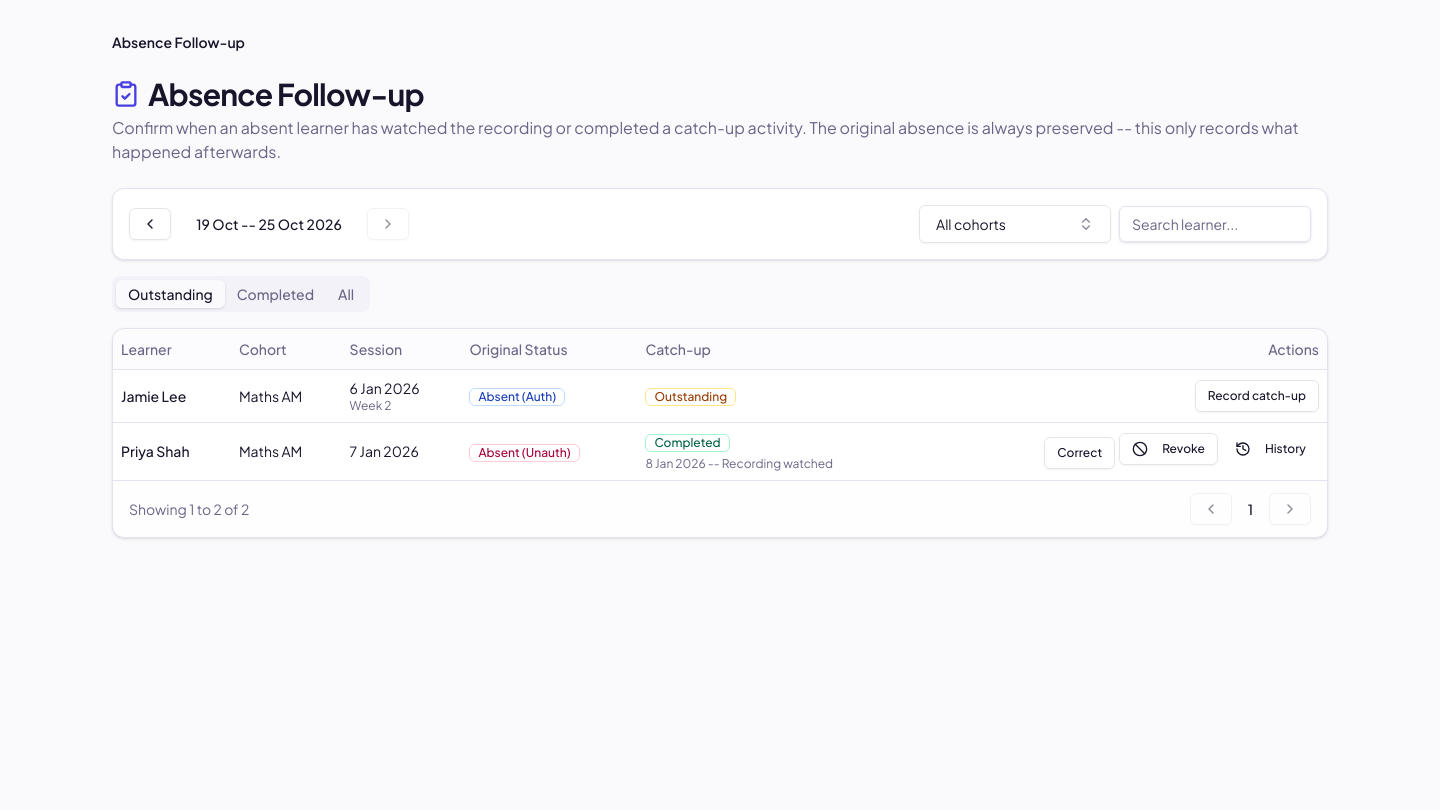
Test: CatchupFollowUpPage › shows catch-up history when the history action is used
Click the button "History": (1270, 449) [1222,433,1319,465]
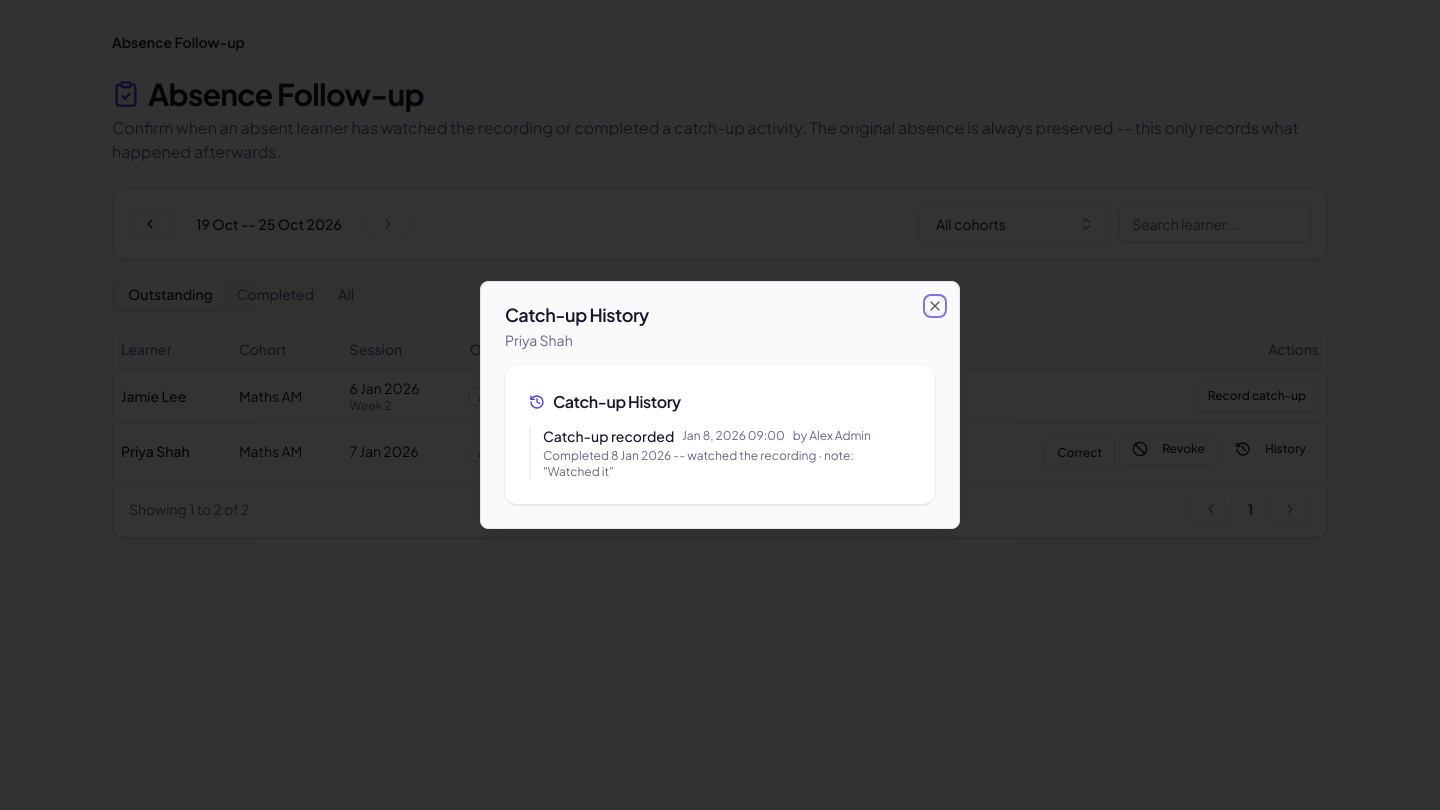
Expected: the text "Catch-up recorded" is shown, [543,426,674,446]
Expected: the text "Watched it" is shown, [543,448,854,479]
